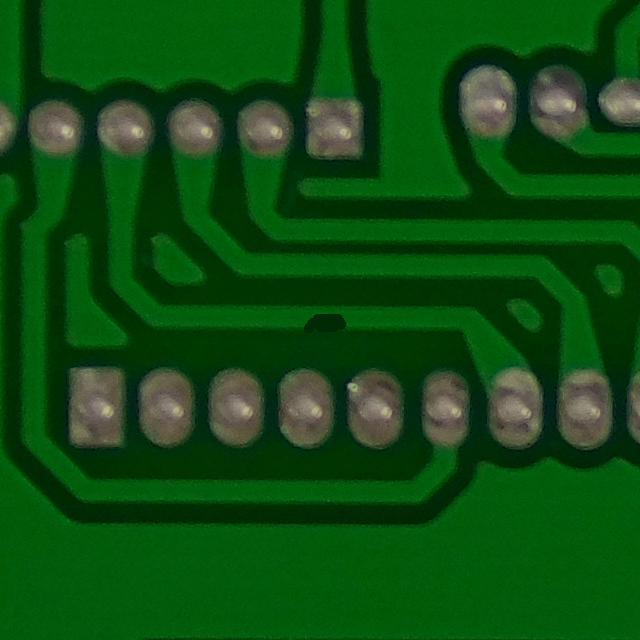mouse_bite: (280, 293, 361, 348)
